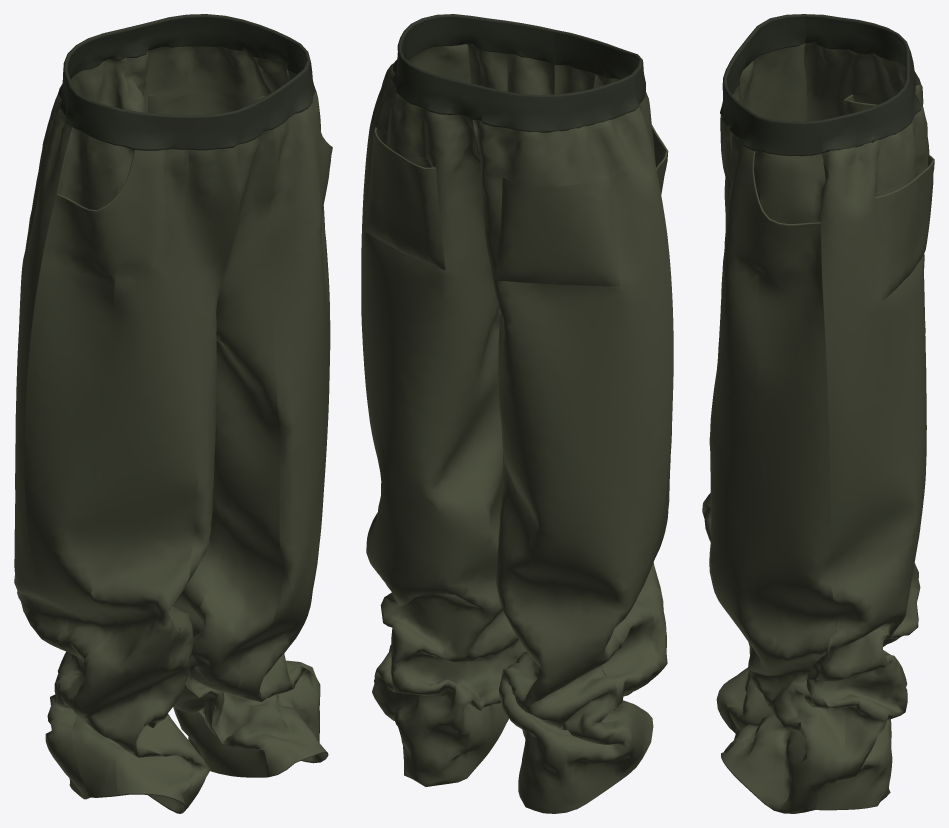
File: FLG_212_05_01_3.fbx
3 views of the same model, side by side, from view 1: azimuth 30°, elevation 25°; view 2: azimuth 150°, elevation 25°; view 3: azimuth 270°, elevation 25° (orthographic). The views are drawn at different scales.
Visible parts, largest first — view 1: FLG_212_05_01_3; view 2: FLG_212_05_01_3; view 3: FLG_212_05_01_3.
Part boxes in pixels (x1=…): FLG_212_05_01_3: x1=14, y1=14, x2=332, y2=813; FLG_212_05_01_3: x1=361, y1=14, x2=673, y2=813; FLG_212_05_01_3: x1=702, y1=14, x2=934, y2=813.
Size of the model in its own units: 48.41 by 111 by 33.08.
